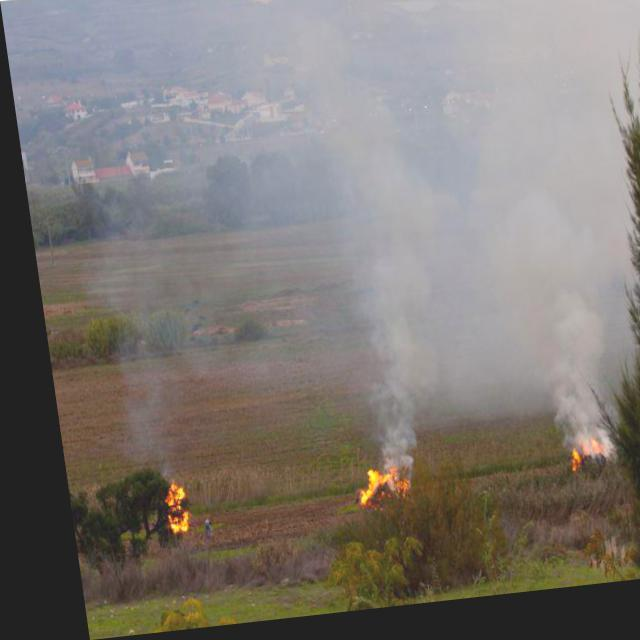Fire: (340, 469, 394, 514), (144, 478, 173, 538), (550, 444, 588, 482)
